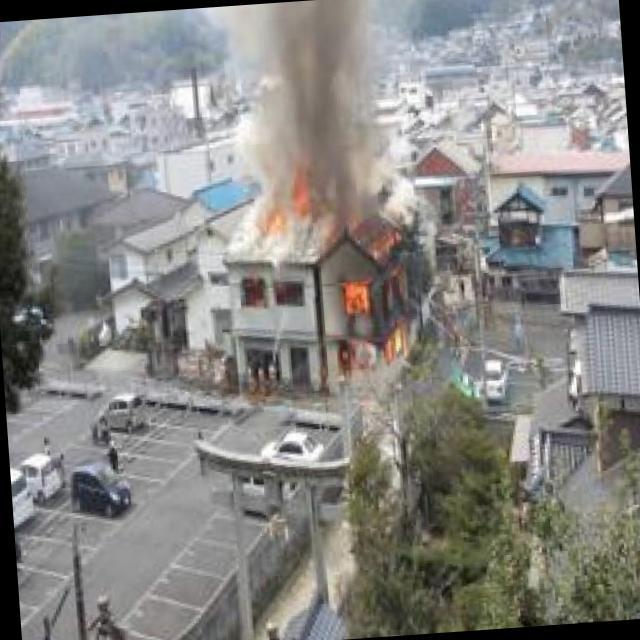Fire: (338, 234, 416, 378)
